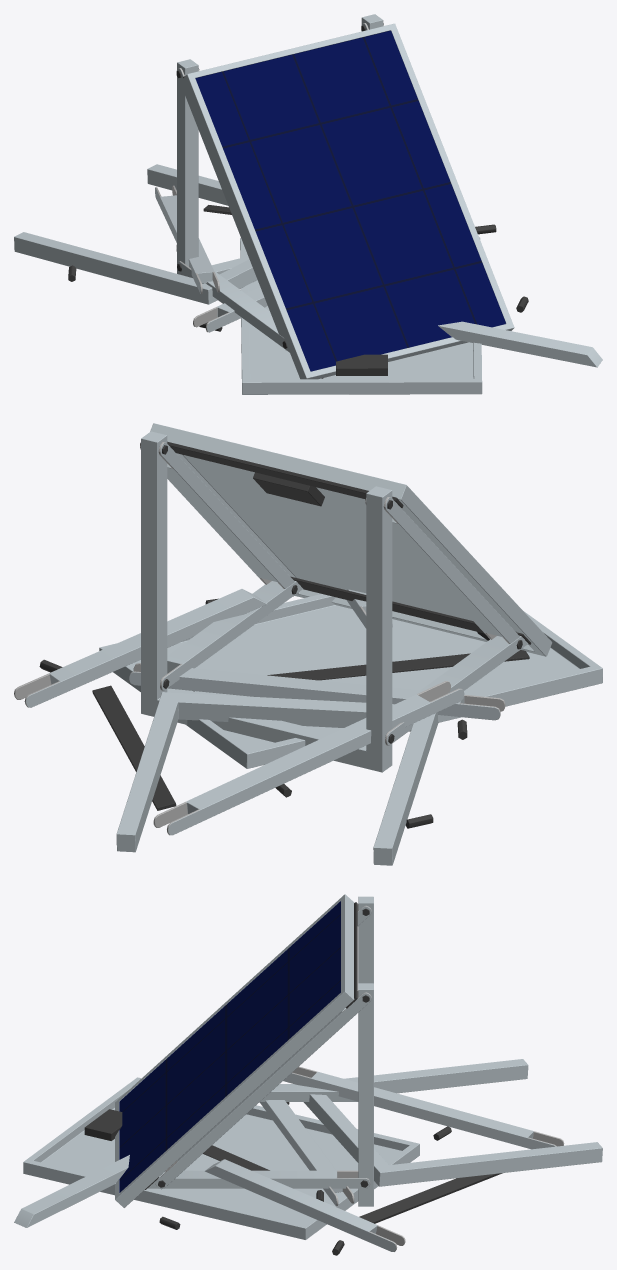
Rendered from Solar_Panel.fbx.
The picture shows the model from 3 angles, top to bottom: view 1: azimuth 30°, elevation 25°; view 2: azimuth 150°, elevation 25°; view 3: azimuth 270°, elevation 25°; orthographic projection. The views are drawn at different scales.
Visible parts, largest first — view 1: Solar Panel, Solar Panel Broken; view 2: Solar Panel, Solar Panel Broken; view 3: Solar Panel Broken, Solar Panel.
Boxes of the visible parts, x1,y1,x2,y2 form: Solar Panel: (176, 14, 514, 379); Solar Panel Broken: (14, 164, 602, 394); Solar Panel: (140, 423, 552, 772); Solar Panel Broken: (14, 589, 602, 865); Solar Panel Broken: (14, 1059, 602, 1255); Solar Panel: (115, 894, 373, 1207).
Bounding box in the file's own units: 4.8 × 6.62 × 2.73.
Materials: 1 (1 with a texture image).
